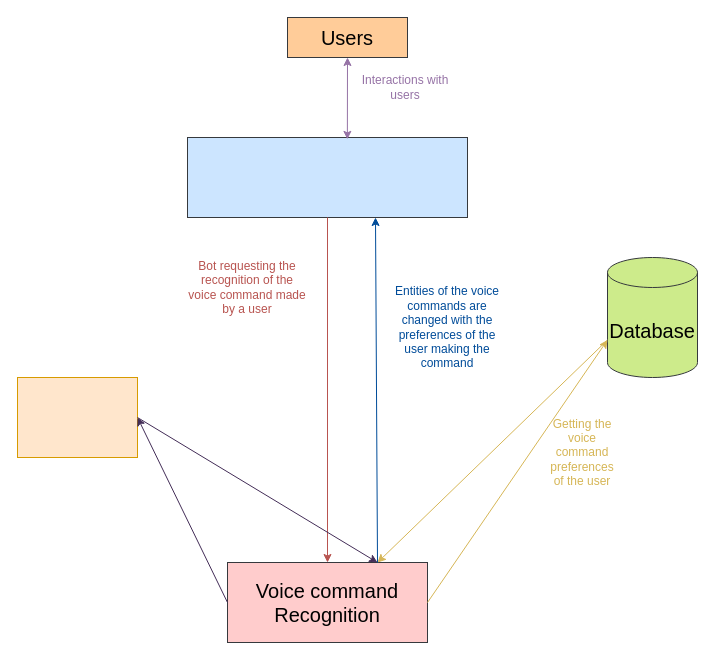
Image size: 715x660. Some labels were removed from this diagram. The shapes that lost their labels are listed below. From the top down, each one's centre as x and y in pixels, then its label:
[327,177]: Bot
[77,417]: Wit.ai
